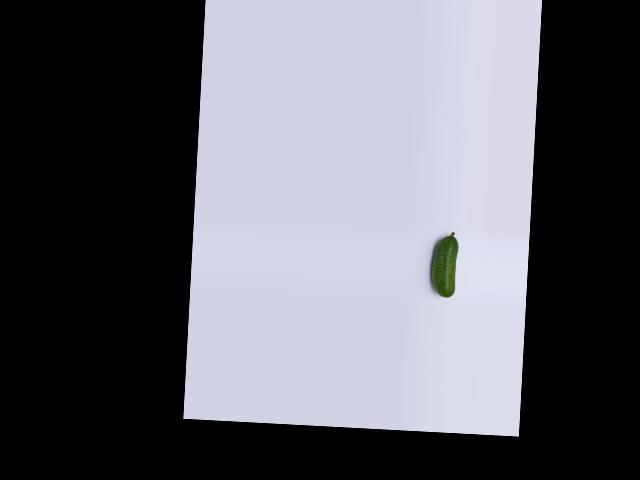cucumber: (430, 231, 458, 298)
